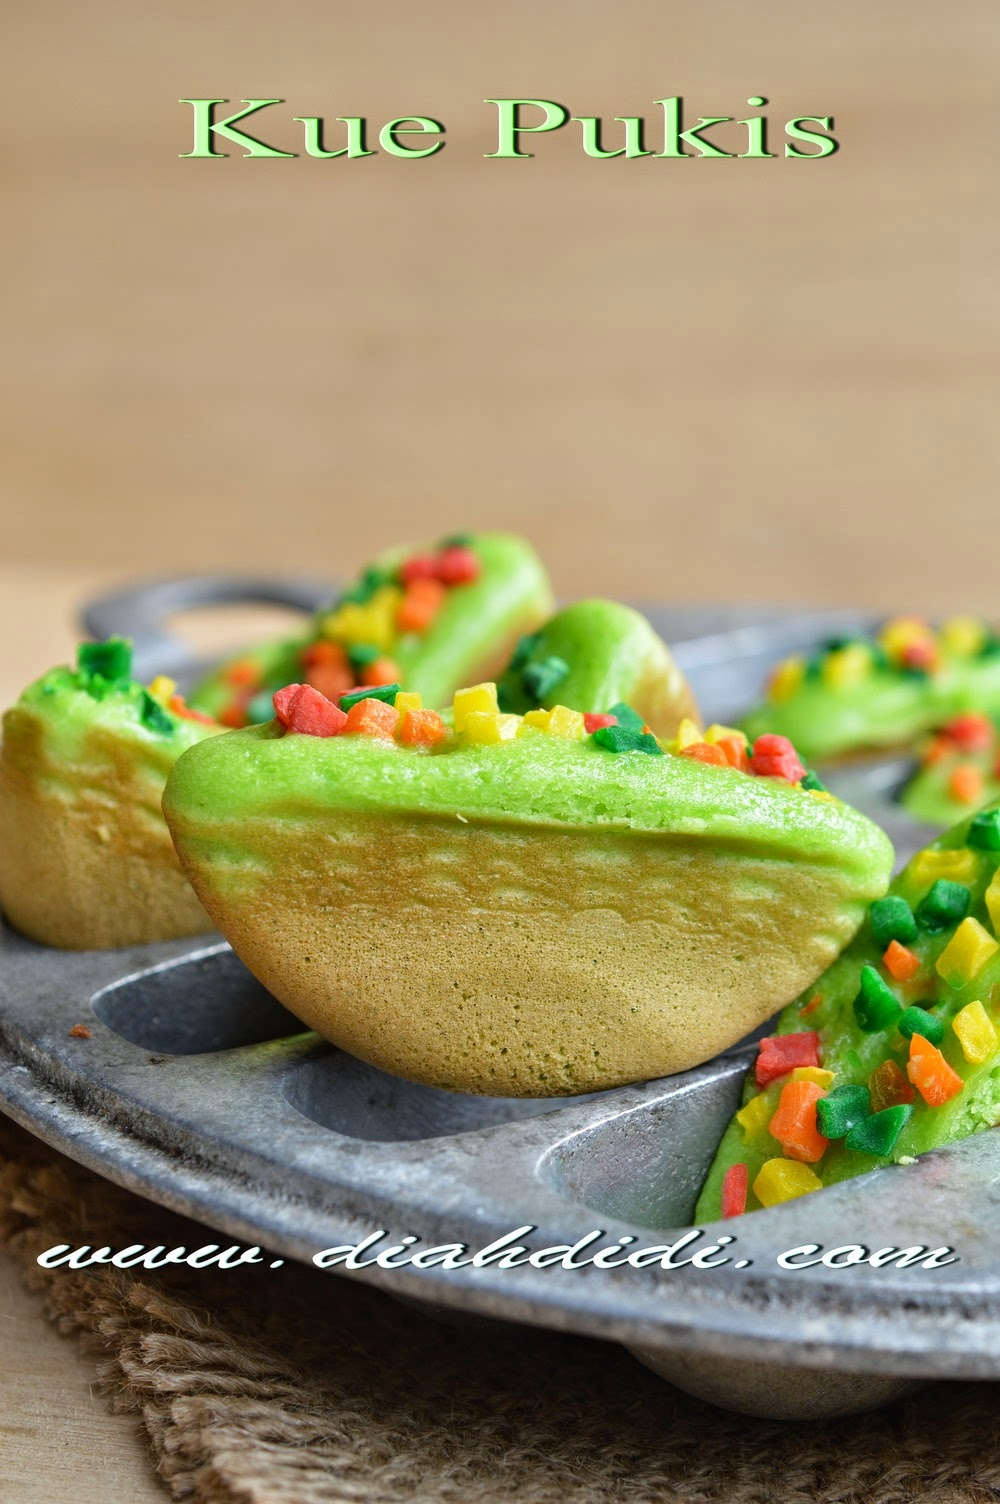pukis: (133, 672, 971, 1117)
